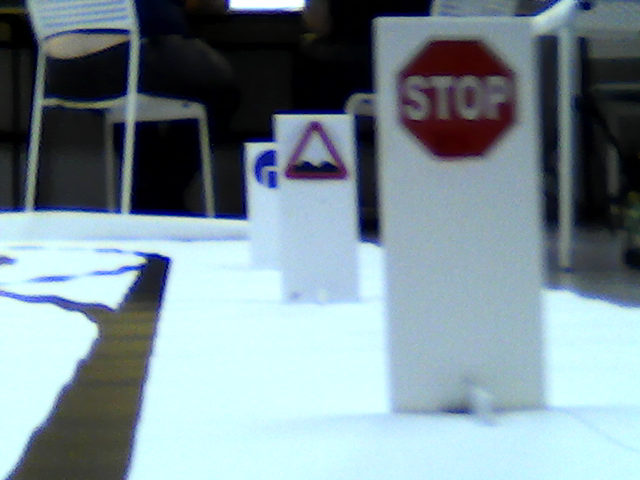Nerov: (283, 120, 347, 182)
Stop: (398, 35, 517, 161)
